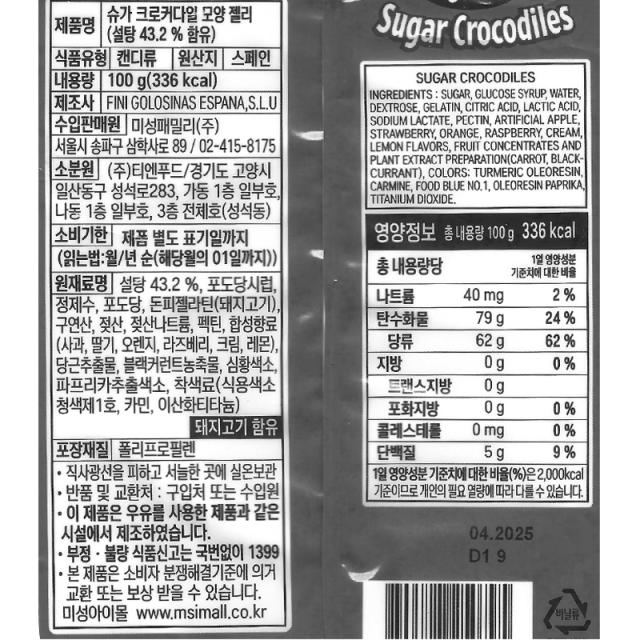Nutrition Label: (357, 208, 592, 509)
